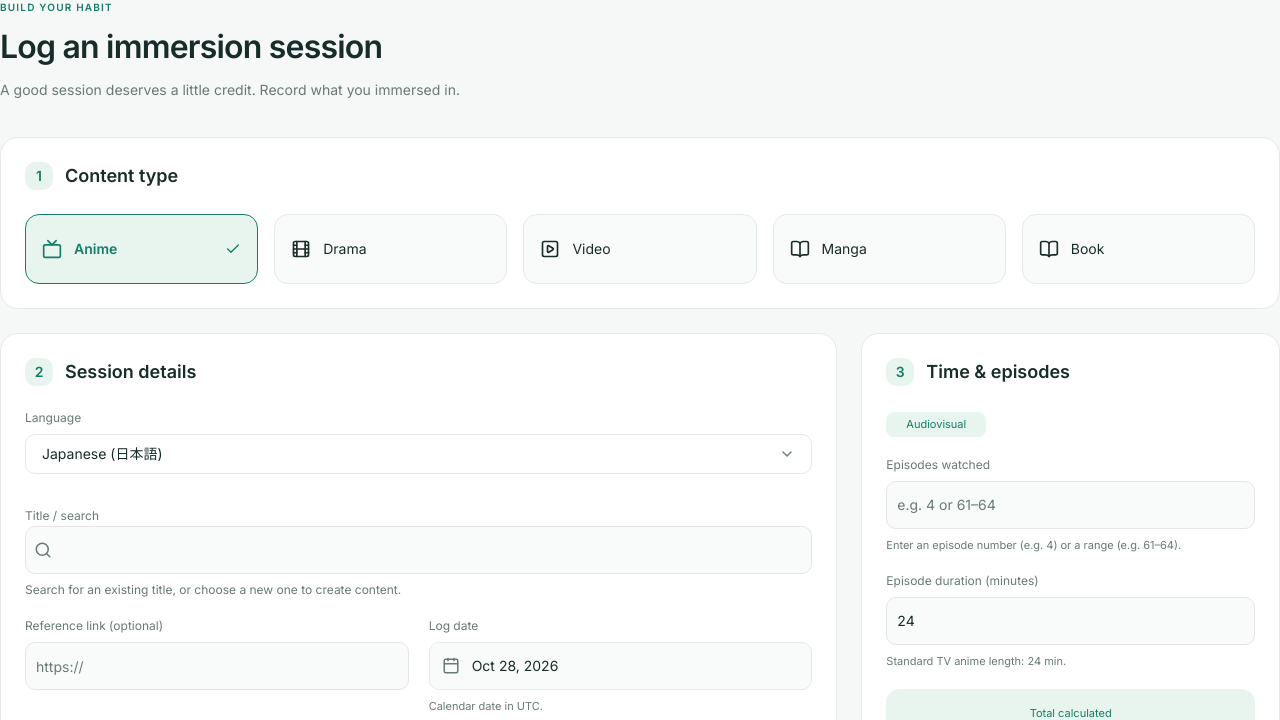
Test case: session entry form › presents a mutation authorization failure in a toast: session_expired
expect the text "Japanese (日本語)" is shown: met, box [42,444,163,464]
Type "Fullmetal" into the dropdown labelled "Title / search".
click(432, 550); type("Fullmetal")  # box [52,534,811,566]
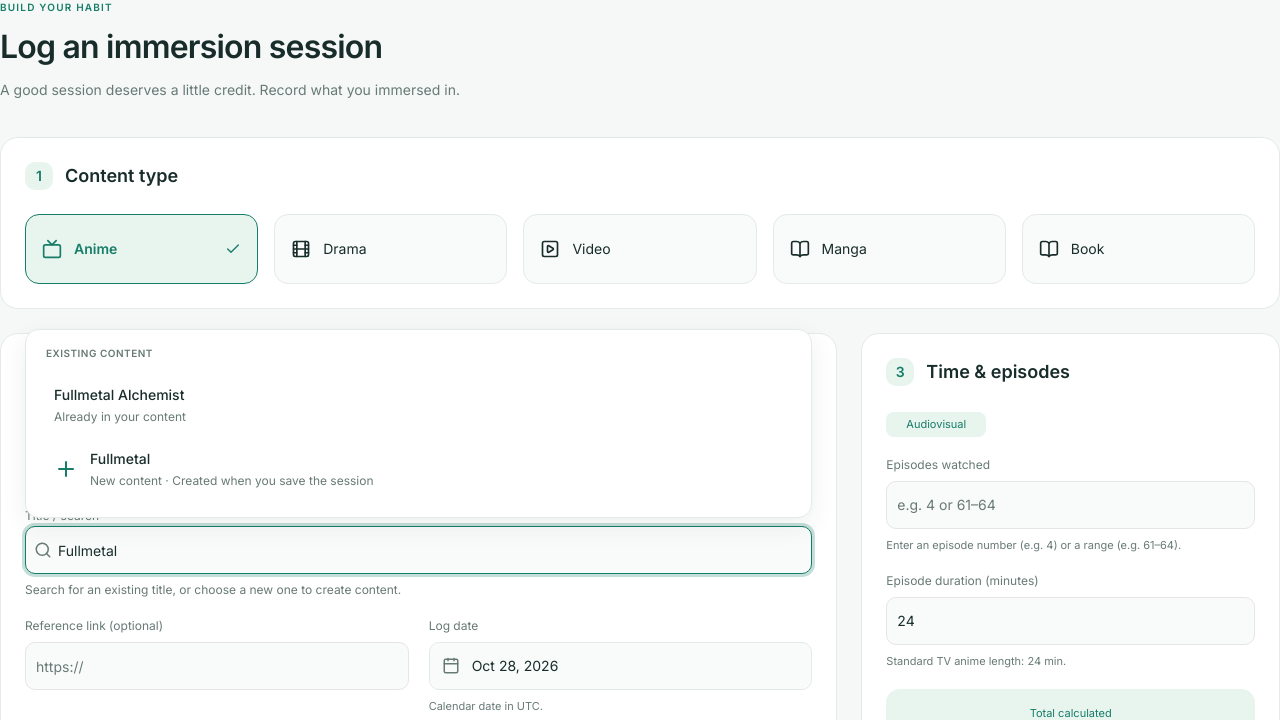
Click the option "Fullmetal Alchemist Already in your content".
click(120, 405)  # box [54,386,186,424]
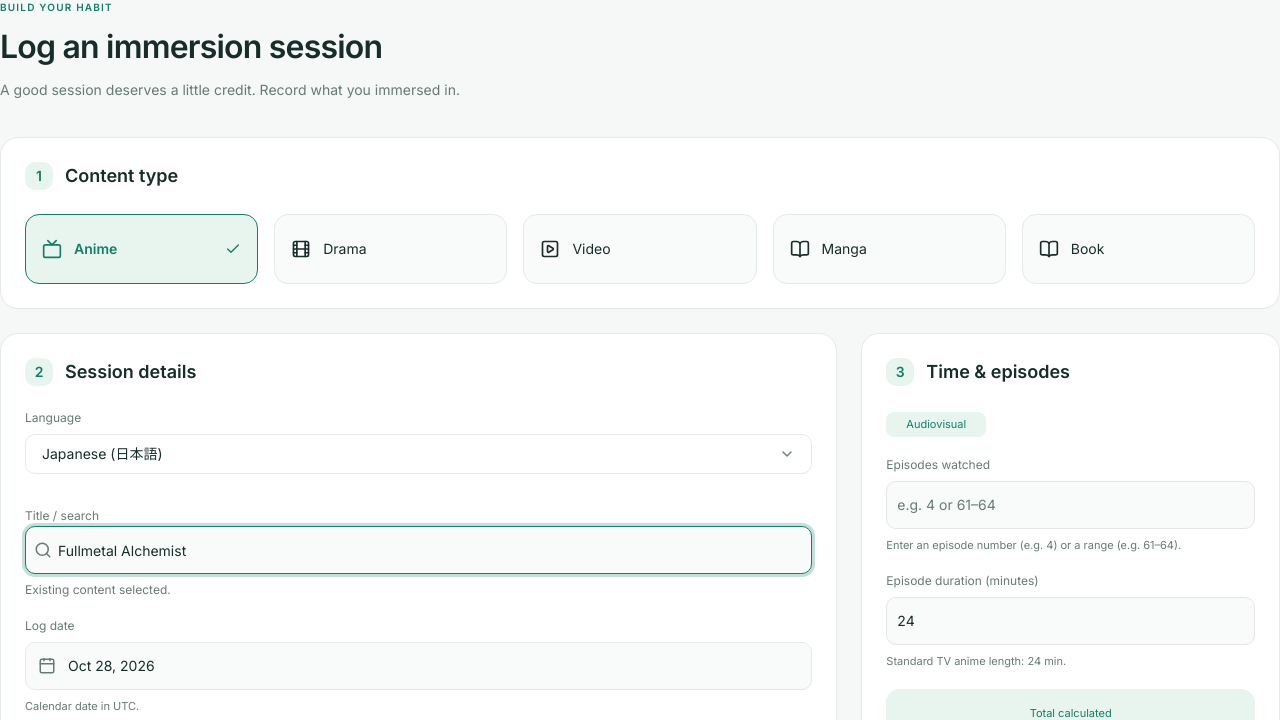
Type "61–64" into the field labelled "Episodes watched".
click(1071, 504); type("61–64")  # box [886,480,1255,528]
(page scrolled)
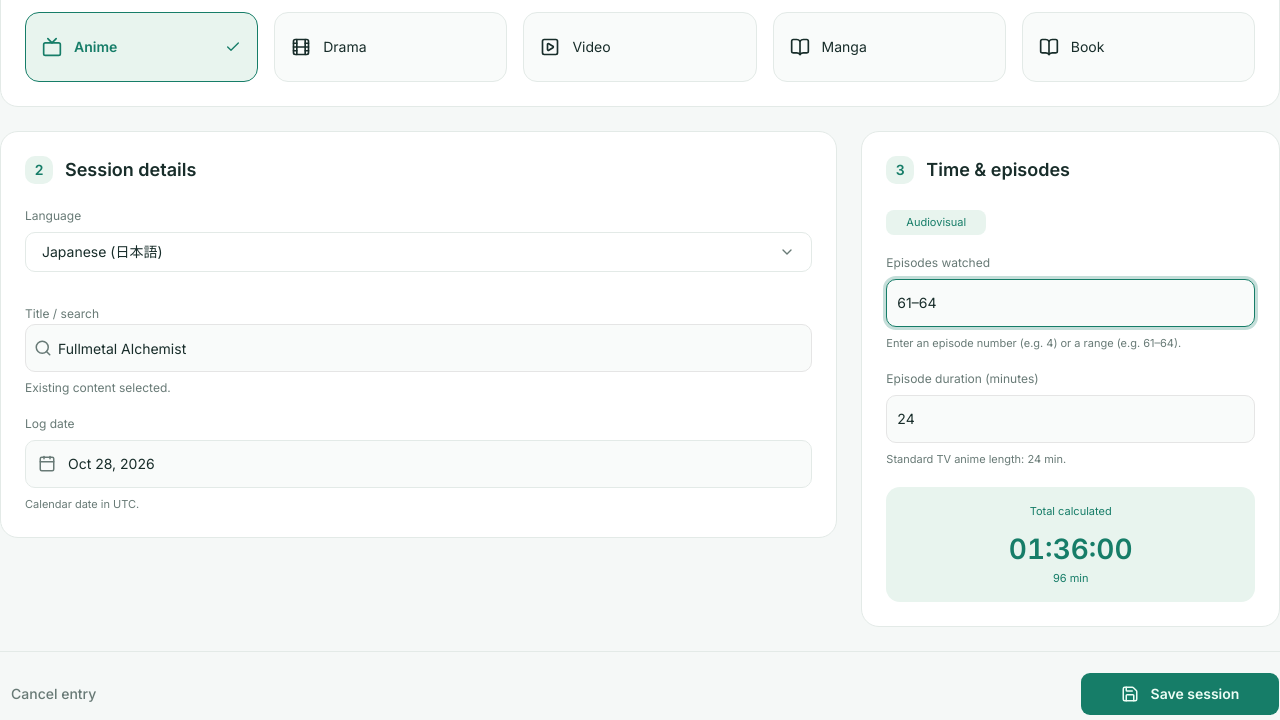
Click the button "Save session".
click(1180, 694)  # box [1080,672,1279,716]
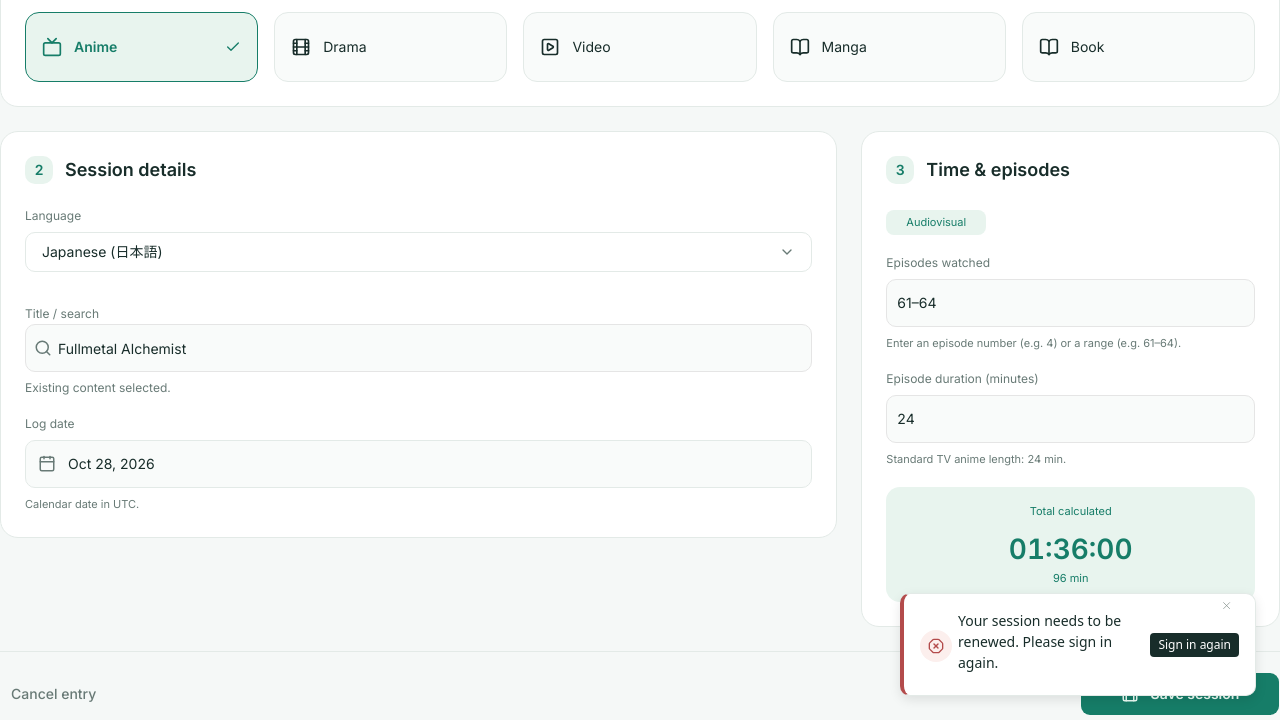
expect the text "Your session needs to be renewed. Please sign in again." is shown: met, box [958,610,1144,673]
expect the button "Sign in again" is shown: met, box [1150,632,1239,656]
